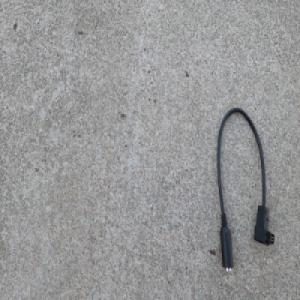Wire: (215, 105, 274, 274)
